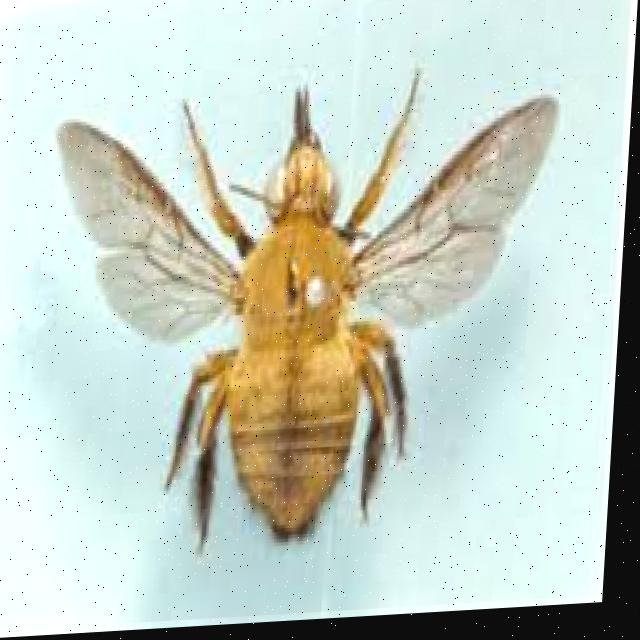Xylocopa: (34, 44, 579, 556)
